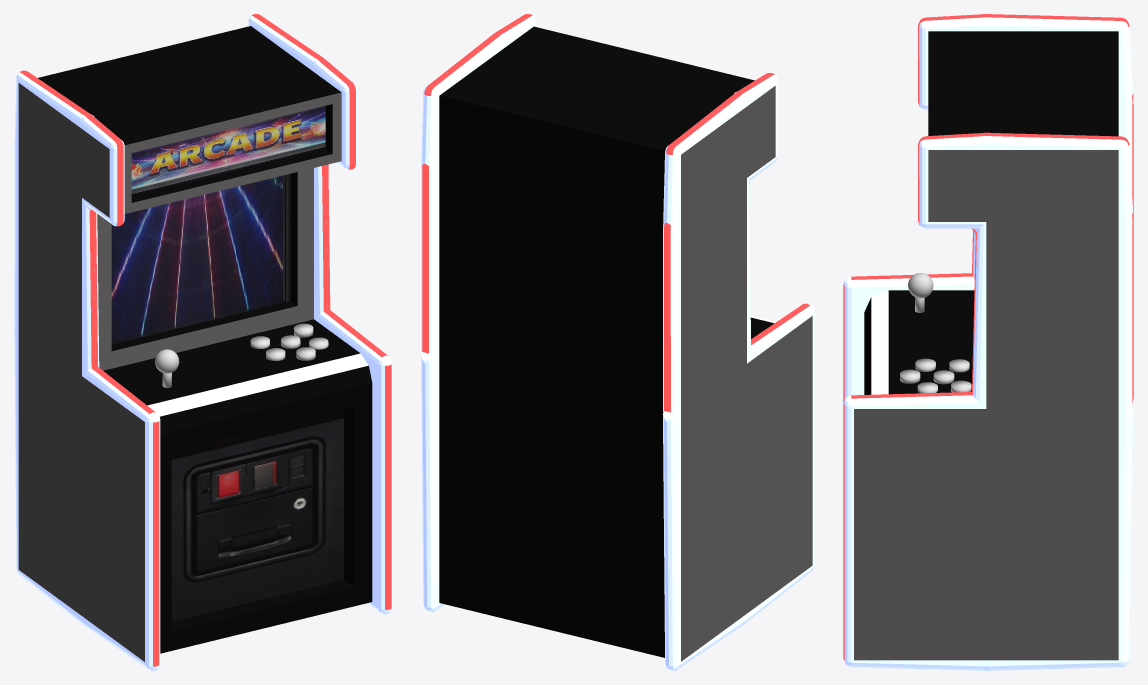
Rendered from Machine1.fbx.
The picture shows the model from 3 angles, left to right: view 1: azimuth 30°, elevation 25°; view 2: azimuth 150°, elevation 25°; view 3: azimuth 270°, elevation 25°; orthographic projection. The views are drawn at different scales.
Parts seen in each view (by area): view 1: Sphere.010; view 2: Sphere.010; view 3: Sphere.010.
Boxes of the visible parts, box(x1,y1,x2,y2) form: Sphere.010: box(14, 14, 392, 670); Sphere.010: box(421, 14, 814, 670); Sphere.010: box(843, 14, 1133, 670).
Size of the model in its own units: 235 by 469 by 230.
